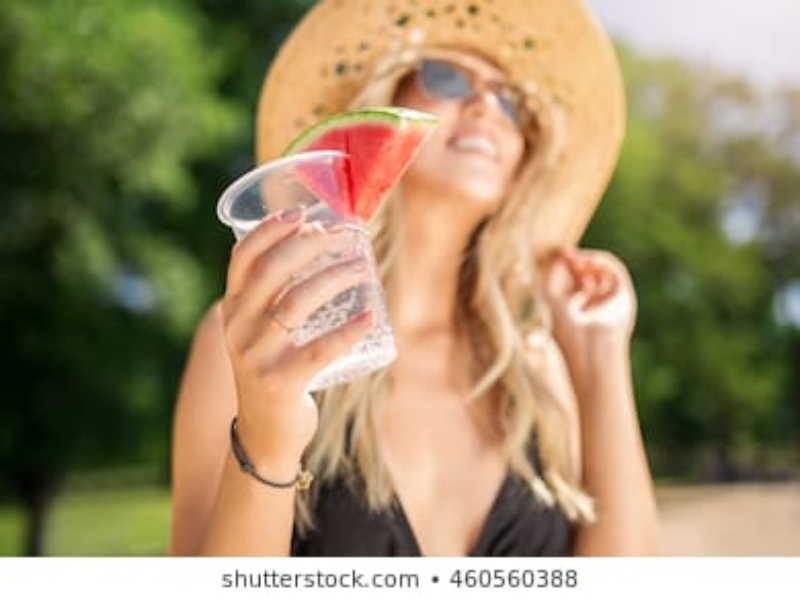plastic-cup: (212, 149, 414, 383)
